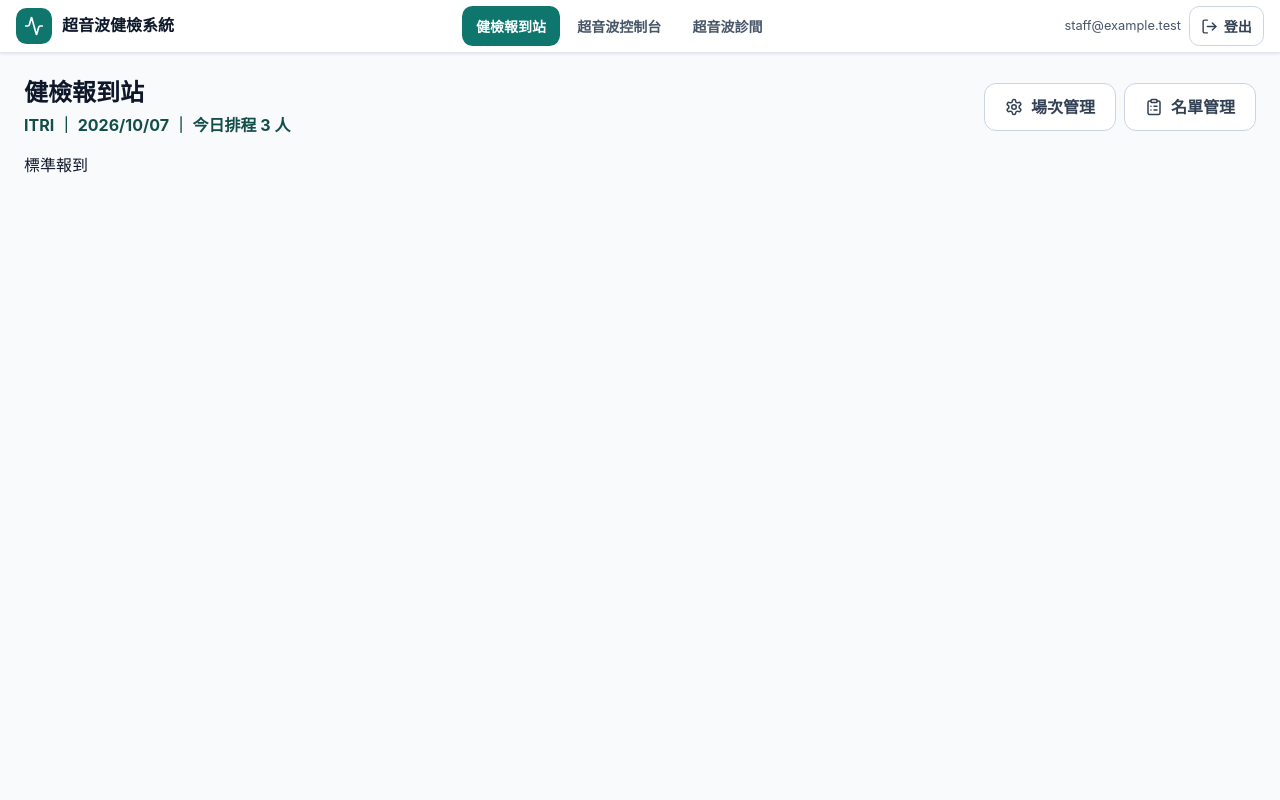
Test case: App 標準與簡易場次模式分流 › 既有 workflowMode=null 維持標準報到、排程與未報到管理統計
This screenshot has width=1280, height=800.
Click the button "場次管理" at (1050, 107), box top-left (984, 83), bottom-right (1116, 131)
(page scrolled)
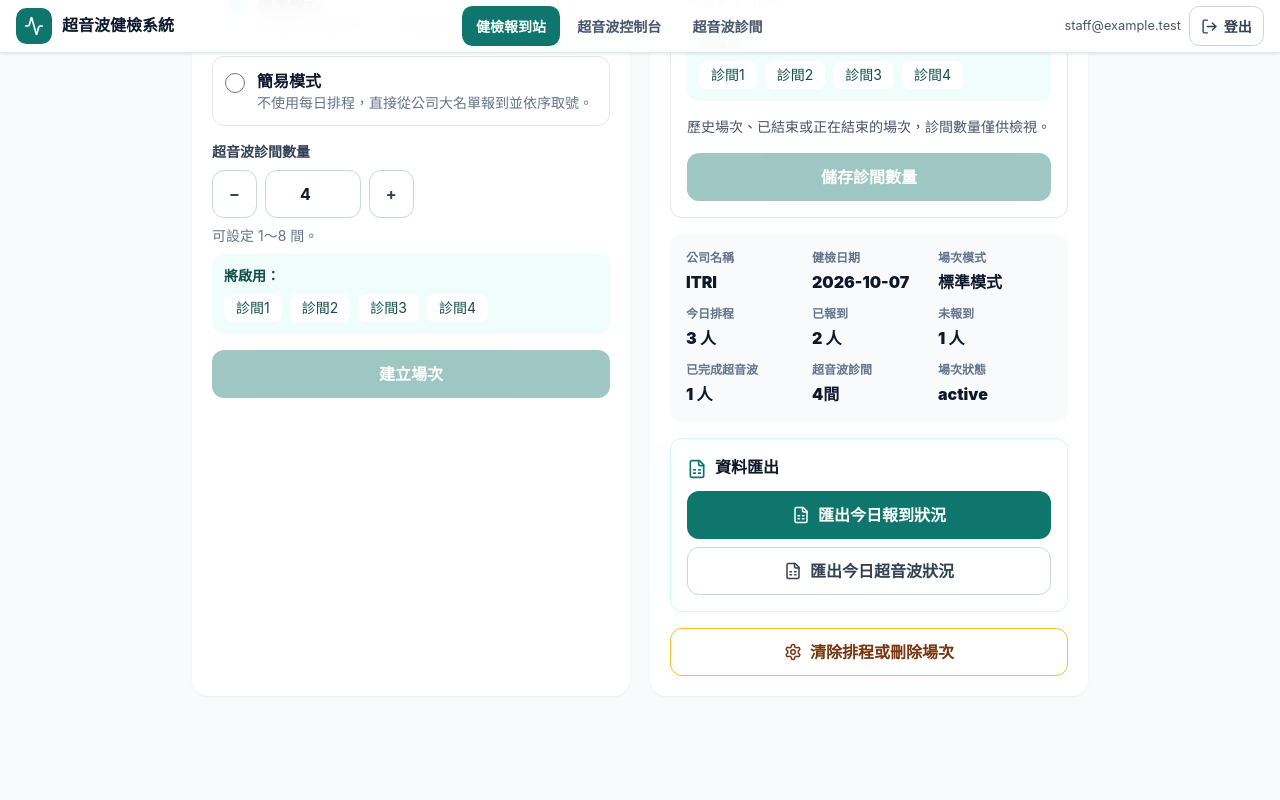
Click the button "清除排程或刪除場次" at (869, 652), box top-left (670, 628), bottom-right (1068, 676)
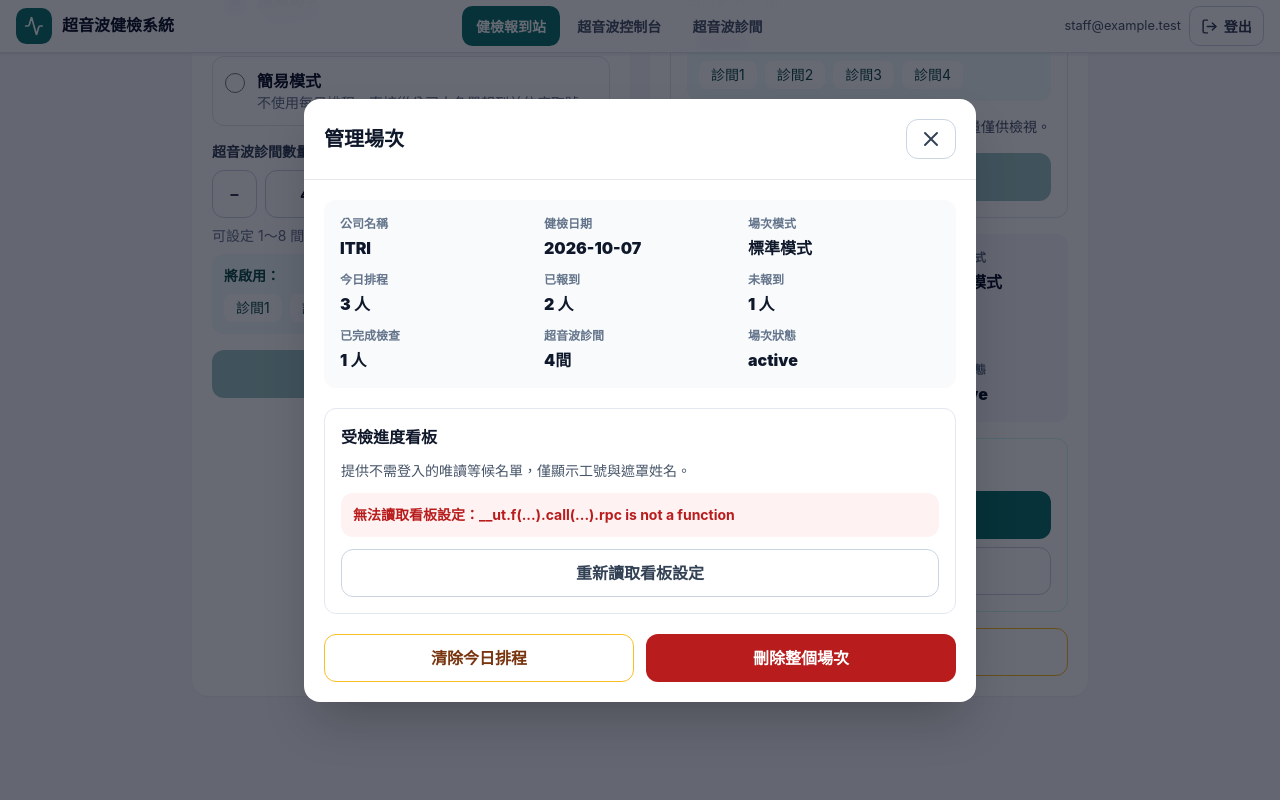
Click the button "清除今日排程" at (479, 658), box top-left (324, 634), bottom-right (634, 682)
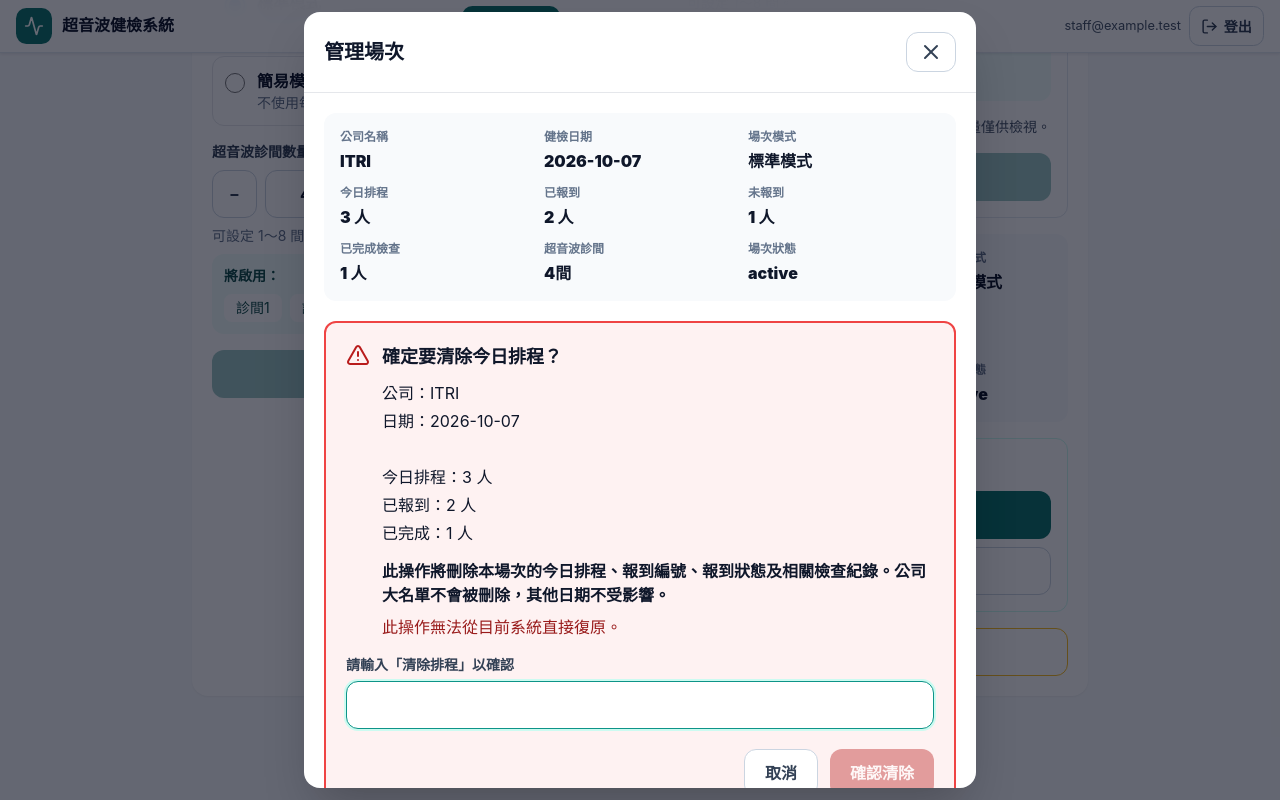
Result: the dialog shows "請輸入「清除排程」以確認"
